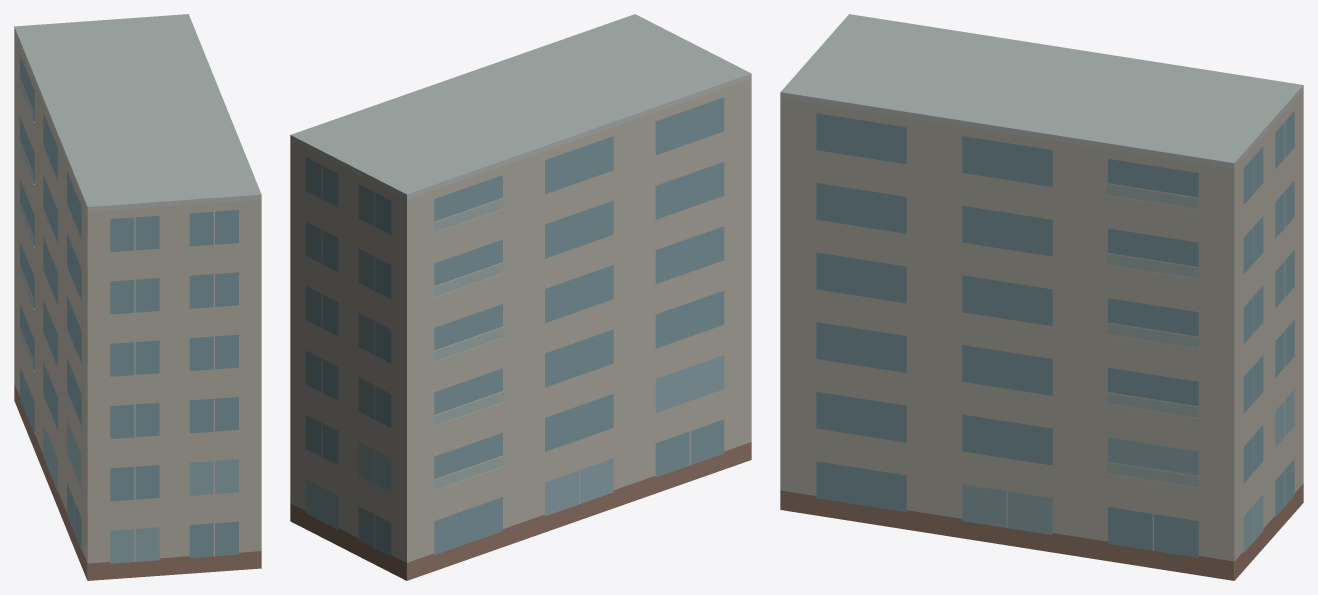
The model's file is survey-upis-32919992.glb.
The picture shows the model from 3 angles, left to right: view 1: azimuth 30°, elevation 25°; view 2: azimuth 150°, elevation 25°; view 3: azimuth 270°, elevation 25°; orthographic projection. The views are drawn at different scales.
Parts seen in each view (by area): view 1: survey-upis-32919992.tmp; view 2: survey-upis-32919992.tmp; view 3: survey-upis-32919992.tmp.
Part boxes in pixels (x1,y1,x2,y2): survey-upis-32919992.tmp: (14,14,261,580); survey-upis-32919992.tmp: (290,14,751,580); survey-upis-32919992.tmp: (780,14,1303,580).
Size of the model in its own units: 14.18 by 18.5 by 21.01.
